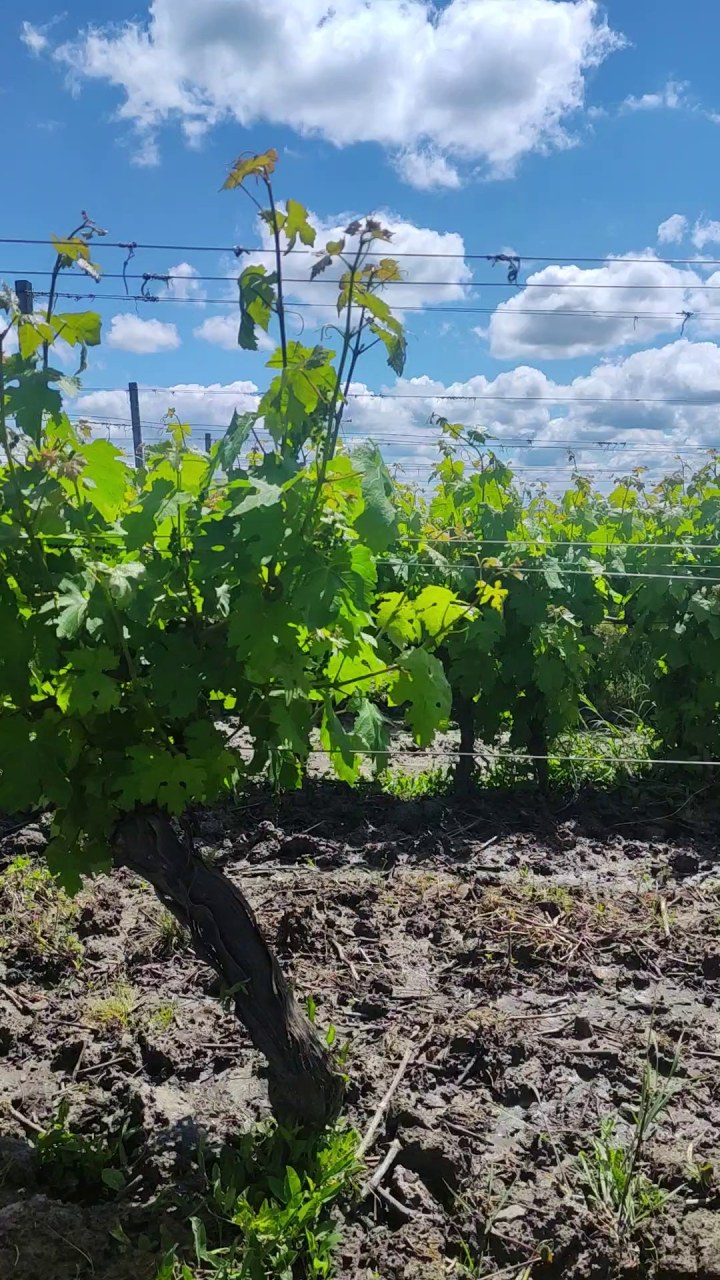vine_trunk: (101, 791, 345, 1131)
